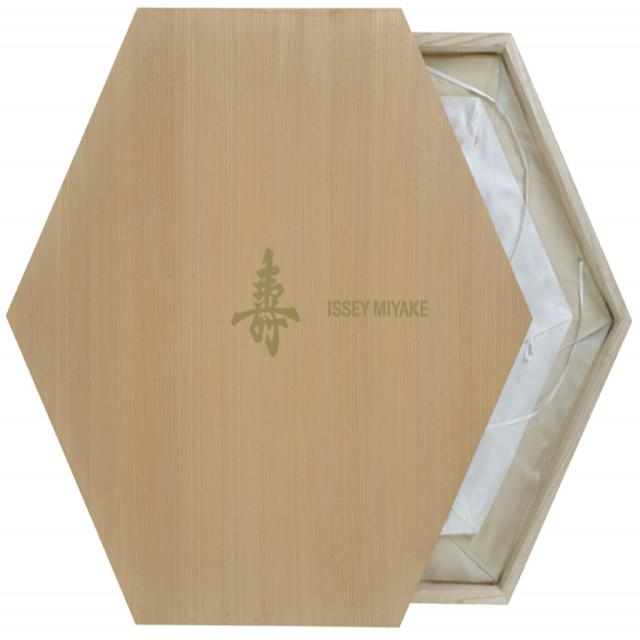Box: (6, 8, 632, 627)
